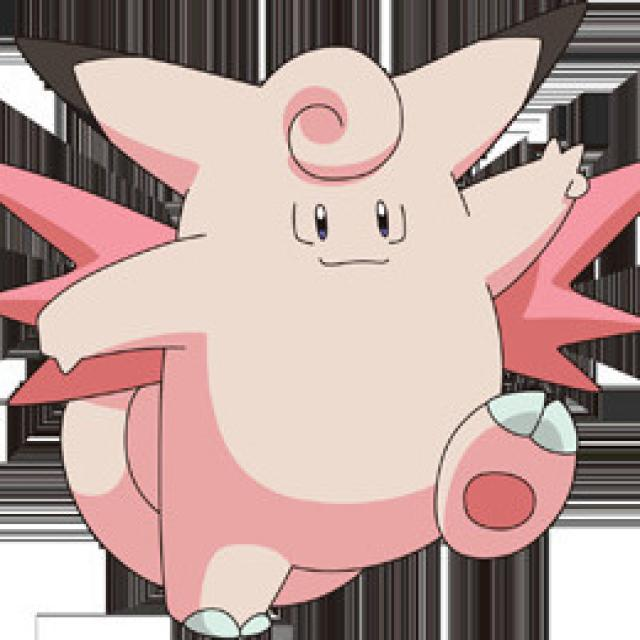Clefable: (8, 14, 593, 640)
